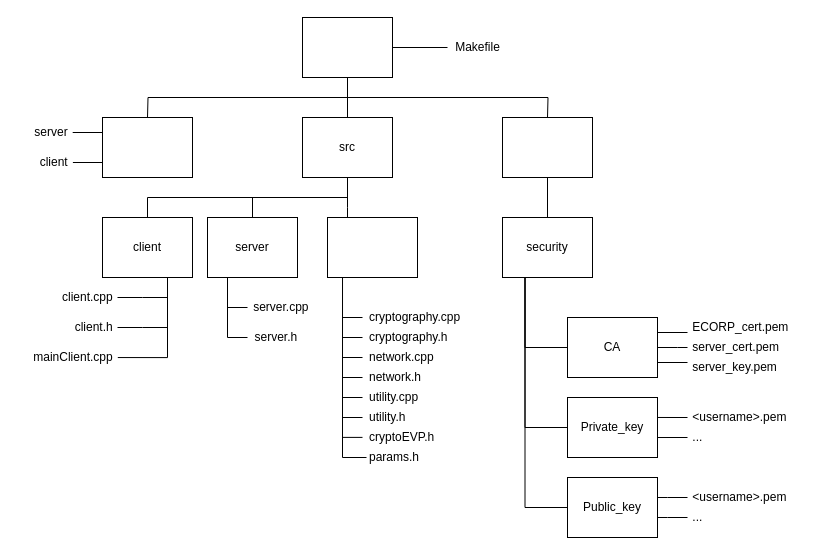
Some shapes in this 814 by 555 pixel diagram are drawn without their labels. Here are the shapes that lost their labels. From the top down, the centre of each, then its label:
the point at 347,47: Security Message
the point at 147,147: build
the point at 547,147: resources
the point at 372,247: common
